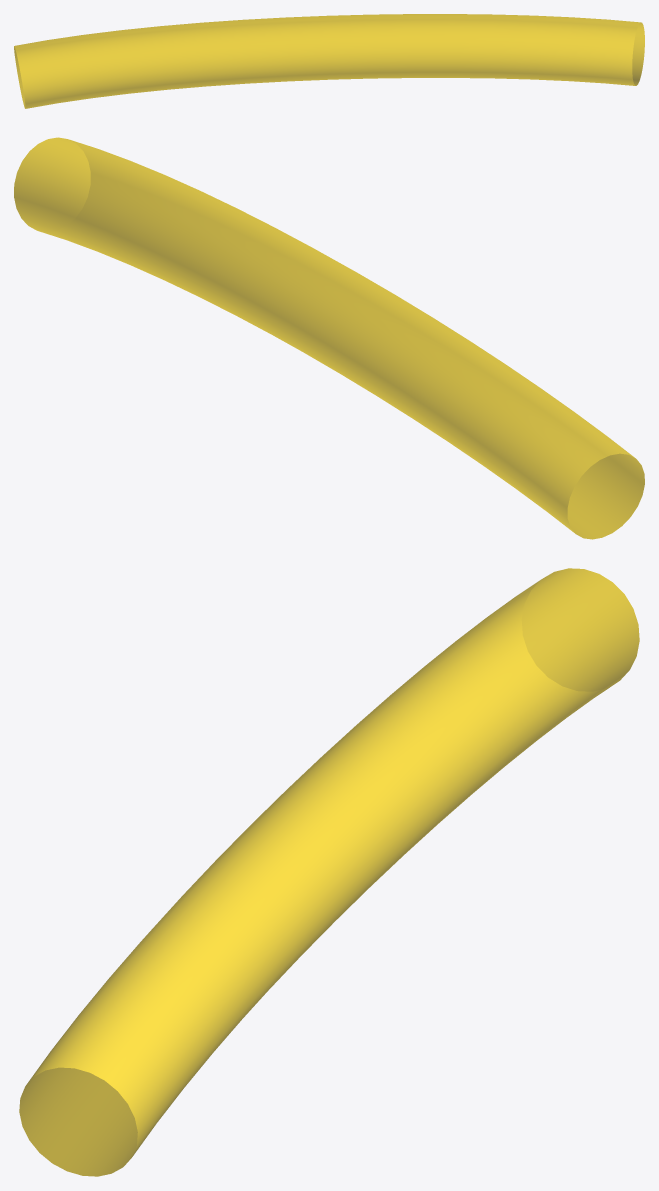
File: Event_40932208_track_31.fbx
The picture shows the model from 3 angles, top to bottom: view 1: azimuth 30°, elevation 25°; view 2: azimuth 150°, elevation 25°; view 3: azimuth 270°, elevation 25°; orthographic projection. The views are drawn at different scales.
Visible parts, largest first — view 1: Model; view 2: Model; view 3: Model.
Part boxes in pixels (x1,y1,x2,y2): Model: (14,14,644,108); Model: (14,137,644,539); Model: (19,568,639,1176).
Size of the model in its own units: 0.3712 by 0.0543 by 0.1932.
